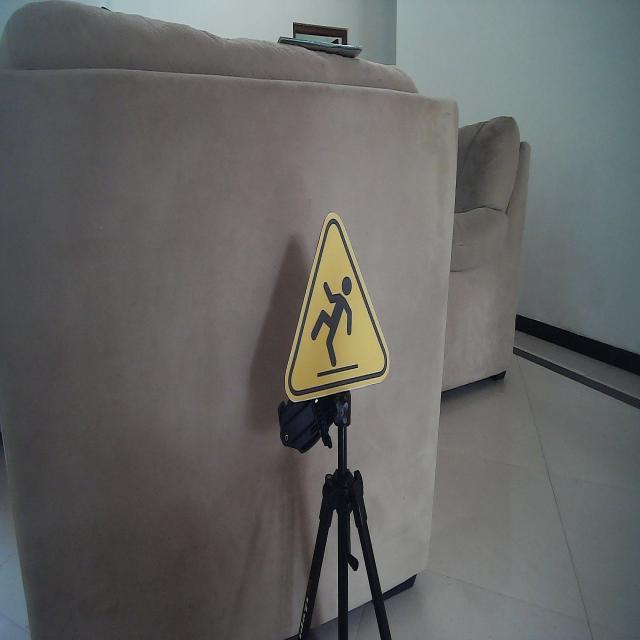slippery_sign: (283, 210, 392, 407)
